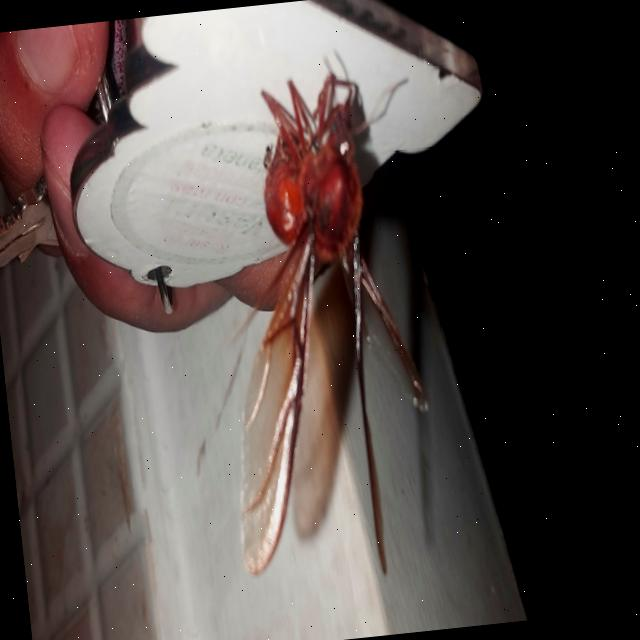Dead-Male-Alate: (189, 39, 460, 590)
